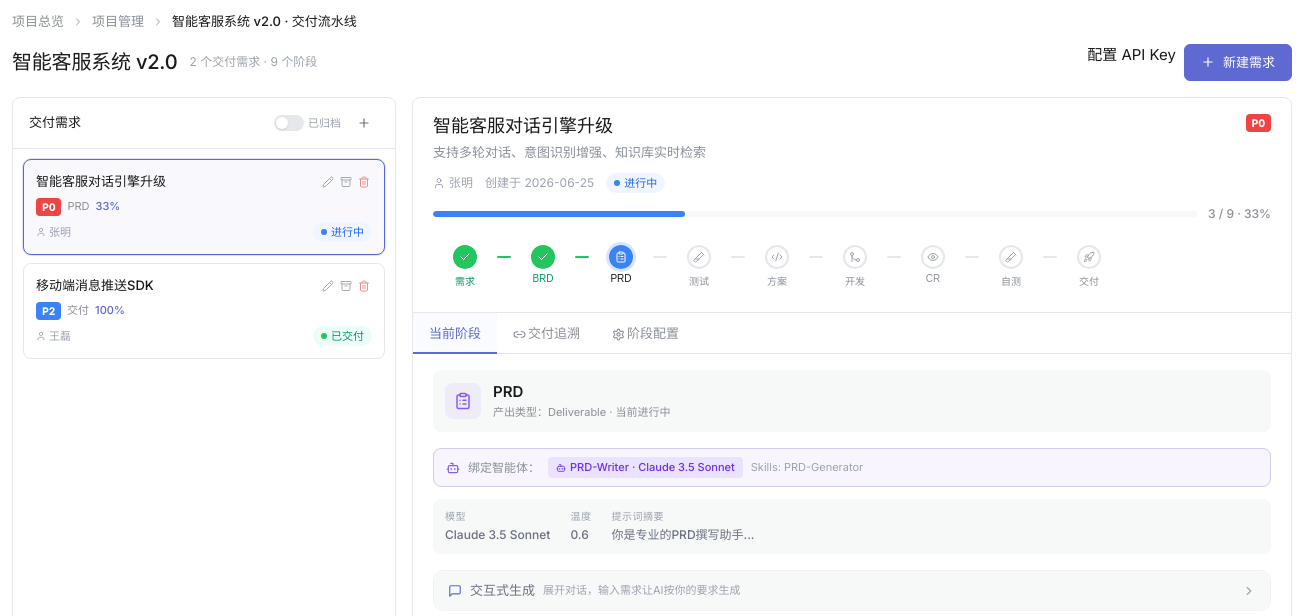
Test case: Pipeline page (delivery workspace) › clicking a stage nav node switches the active stage info
The width and height of the screenshot is (1304, 616).
Expected: the text with class "delivery-stage-info-name" reads "PRD", x1=493 y1=382 x2=523 y2=401
Click the tab with aria-label "需求分析，已完成" at (465, 267), box x1=433 y1=241 x2=497 y2=292
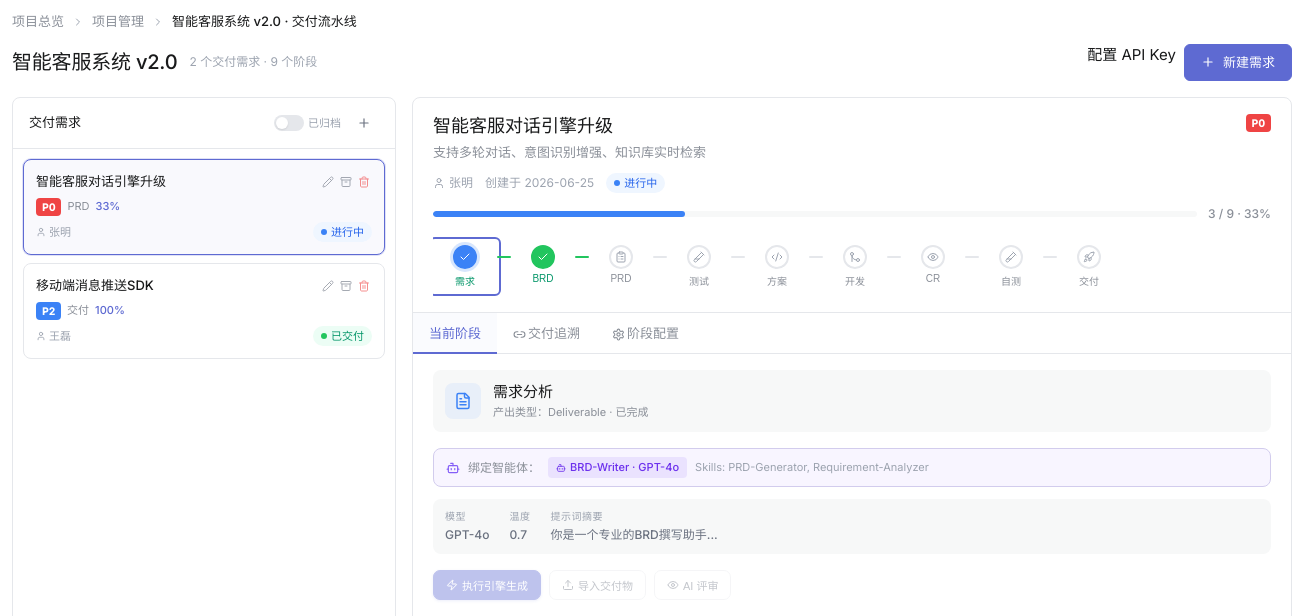
Expected: the text with class "delivery-stage-info-name" reads "需求分析", x1=493 y1=382 x2=553 y2=401
Expected: the text with class "delivery-stage-info-type" shows "已完成", x1=606 y1=405 x2=649 y2=419
